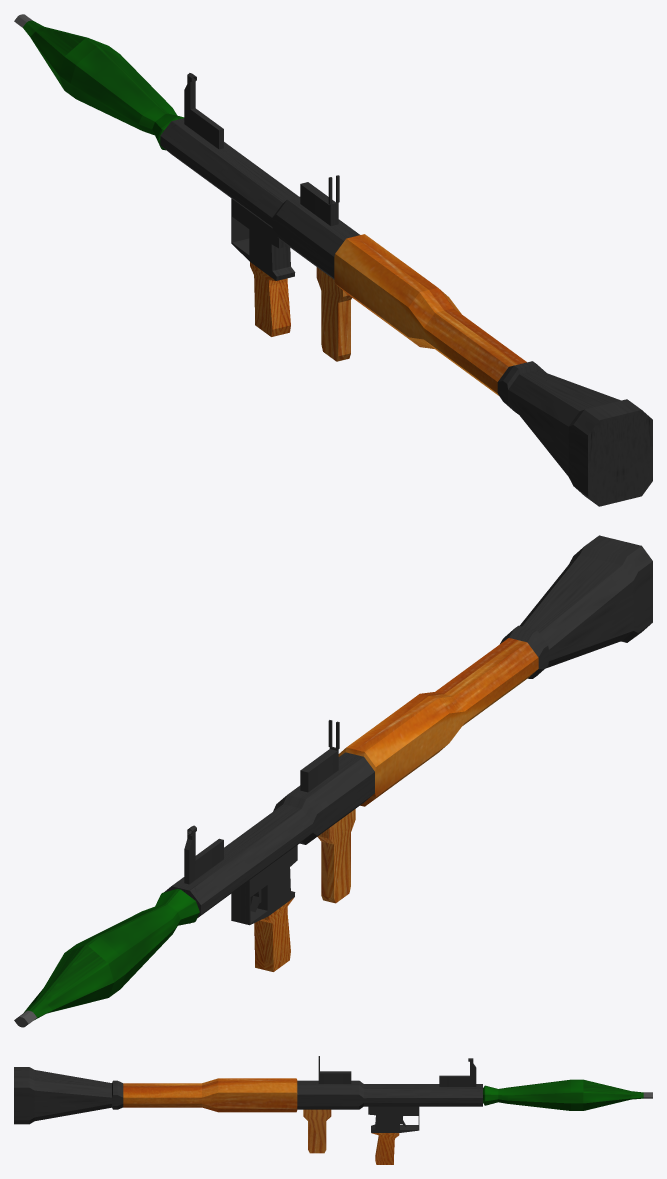
Rendered from rpg_only.glb.
3 renders of one model, top to bottom at view 1: azimuth 30°, elevation 25°; view 2: azimuth 150°, elevation 25°; view 3: azimuth 270°, elevation 25°, orthographic. The views are drawn at different scales.
Visible parts, largest first — view 1: rpg_body, explosive; view 2: rpg_body, explosive; view 3: rpg_body, explosive.
Boxes of the visible parts, x1,y1,x2,y2 form: rpg_body: [160, 73, 652, 506]; explosive: [14, 14, 184, 150]; rpg_body: [164, 535, 652, 971]; explosive: [14, 888, 199, 1027]; rpg_body: [14, 1056, 482, 1164]; explosive: [483, 1079, 652, 1110].
Size of the model in its own units: 0.1311 by 0.3809 by 2.1.
Materials: 2 (2 with a texture image).
